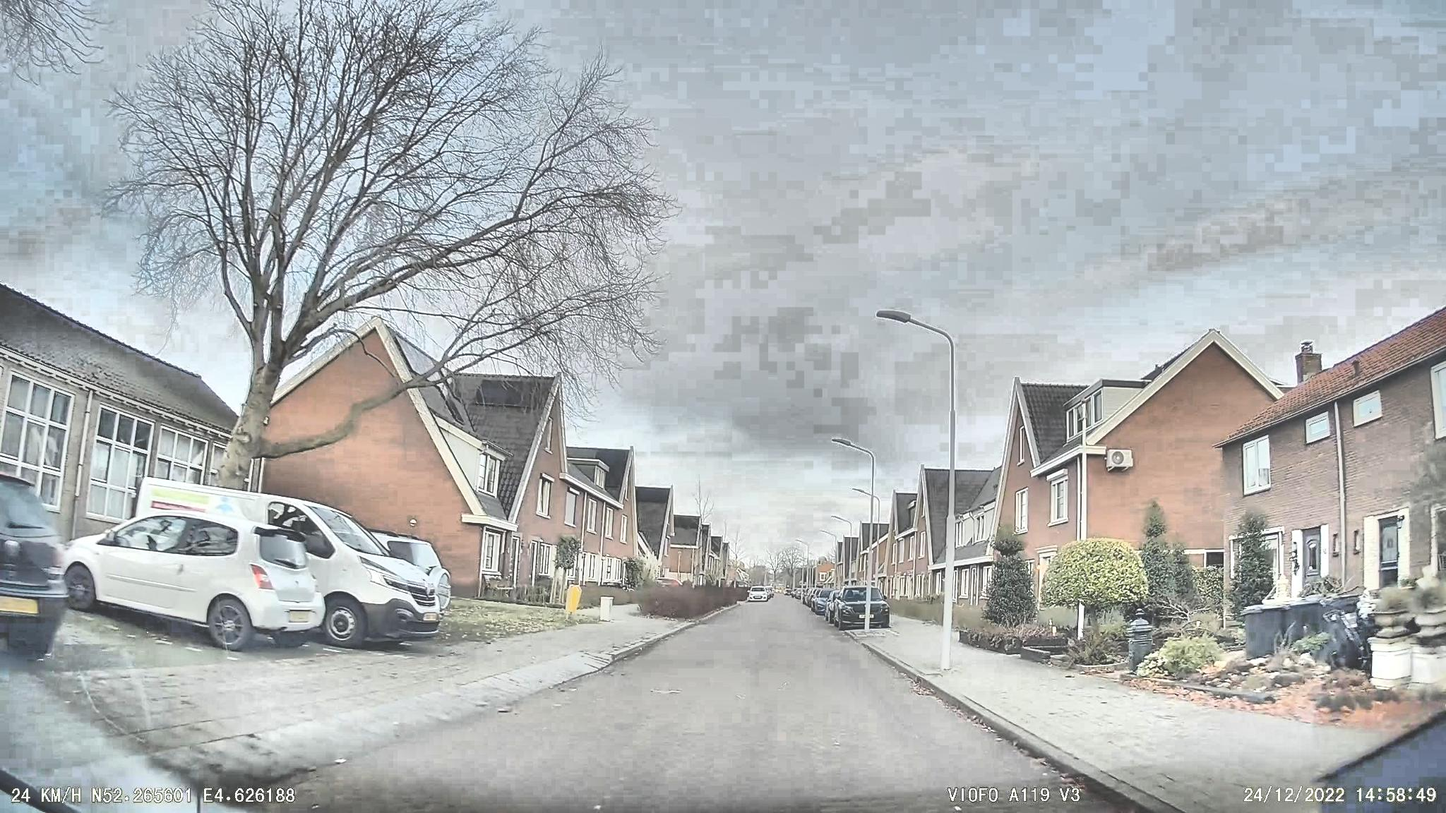Roads: (10, 603, 1106, 813)
